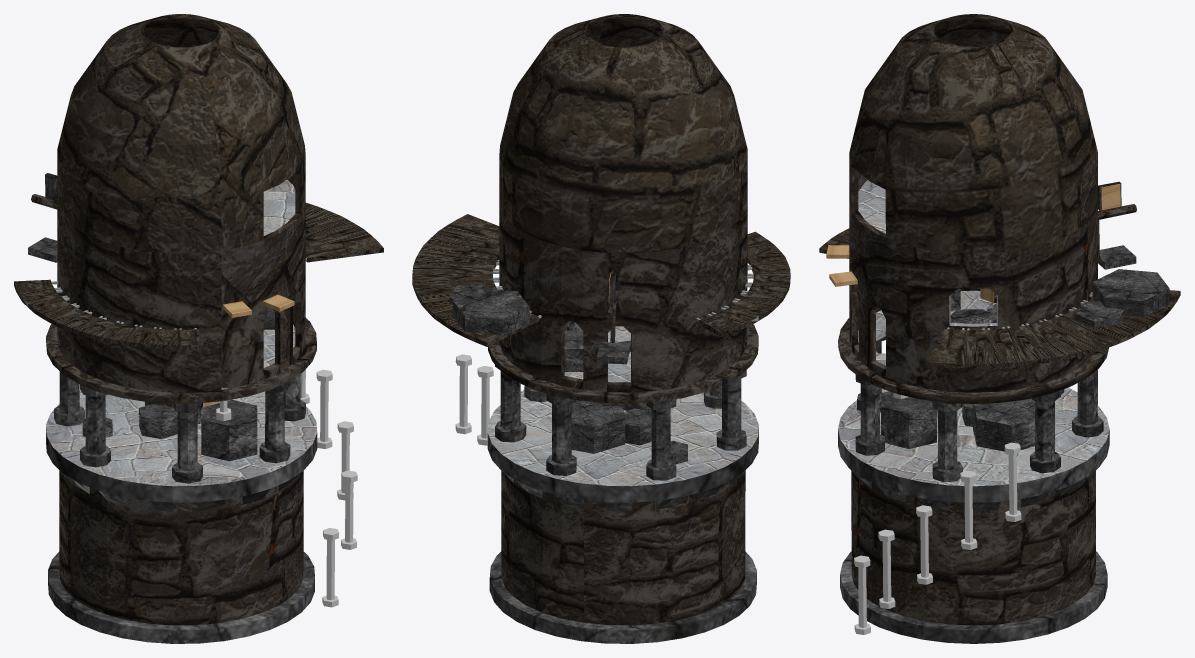
The model's file is TORRE1.fbx.
3 renders of one model, left to right at view 1: azimuth 30°, elevation 25°; view 2: azimuth 150°, elevation 25°; view 3: azimuth 270°, elevation 25°, orthographic.
Parts seen in each view (by area): view 1: ParedeTeto, ParedeBase, pilares, chaoPlataformafora, chaoPlataformafora2, palco9, palco11, rotatePilar__8_, rotatePilar__11_, rotatePilar__7_, rotatePilar__9_, girador sla2 (+1 smaller); view 2: ParedeTeto, ParedeBase, pilares, chaoPlataformafora2, chaoPlataformafora, palco12, palco10, palco11, rotatePilar__12_, palco6, rotatePilar__11_, Cube__1_ (+1 smaller); view 3: ParedeTeto, ParedeBase, chaoPlataformafora2, pilares, palco12, palco10, palco9, palco13, rotatePilar__7_, rotatePilar__9_, rotatePilar__11_, rotatePilar__8_ (+4 smaller).
Part boxes in pixels (box(x1,y1,x2,y2)): ParedeTeto: box(46, 14, 316, 403); ParedeBase: box(46, 390, 317, 643); pilares: box(54, 371, 305, 483); chaoPlataformafora: box(14, 279, 203, 349); chaoPlataformafora2: box(305, 202, 383, 262); palco9: box(201, 399, 257, 461); palco11: box(139, 404, 177, 439); rotatePilar__8_: box(341, 470, 357, 549); rotatePilar__11_: box(316, 369, 332, 448); rotatePilar__7_: box(322, 528, 339, 607); rotatePilar__9_: box(337, 421, 353, 500); girador sla2: box(31, 173, 57, 209); ParedeTeto: box(488, 14, 758, 403); ParedeBase: box(487, 390, 758, 643); pilares: box(495, 365, 746, 480); chaoPlataformafora2: box(412, 214, 541, 346); chaoPlataformafora: box(696, 231, 790, 336); palco12: box(452, 288, 529, 336); palco10: box(571, 400, 625, 453); palco11: box(624, 408, 651, 445); rotatePilar__12_: box(455, 354, 471, 434); palco6: box(564, 330, 583, 371); rotatePilar__11_: box(477, 366, 493, 445); Cube__1_: box(597, 342, 629, 364); ParedeTeto: box(838, 14, 1108, 403); ParedeBase: box(838, 388, 1109, 643); chaoPlataformafora2: box(927, 290, 1180, 368); pilares: box(855, 336, 1103, 482); palco12: box(1092, 269, 1169, 316); palco10: box(973, 398, 1034, 451); palco9: box(881, 391, 937, 448); palco13: box(1076, 301, 1124, 327); rotatePilar__7_: box(854, 555, 870, 634); rotatePilar__9_: box(916, 505, 932, 584); rotatePilar__11_: box(960, 470, 977, 549); rotatePilar__8_: box(878, 529, 895, 608).
Size of the model in its own units: 8809 by 14255 by 8389.
